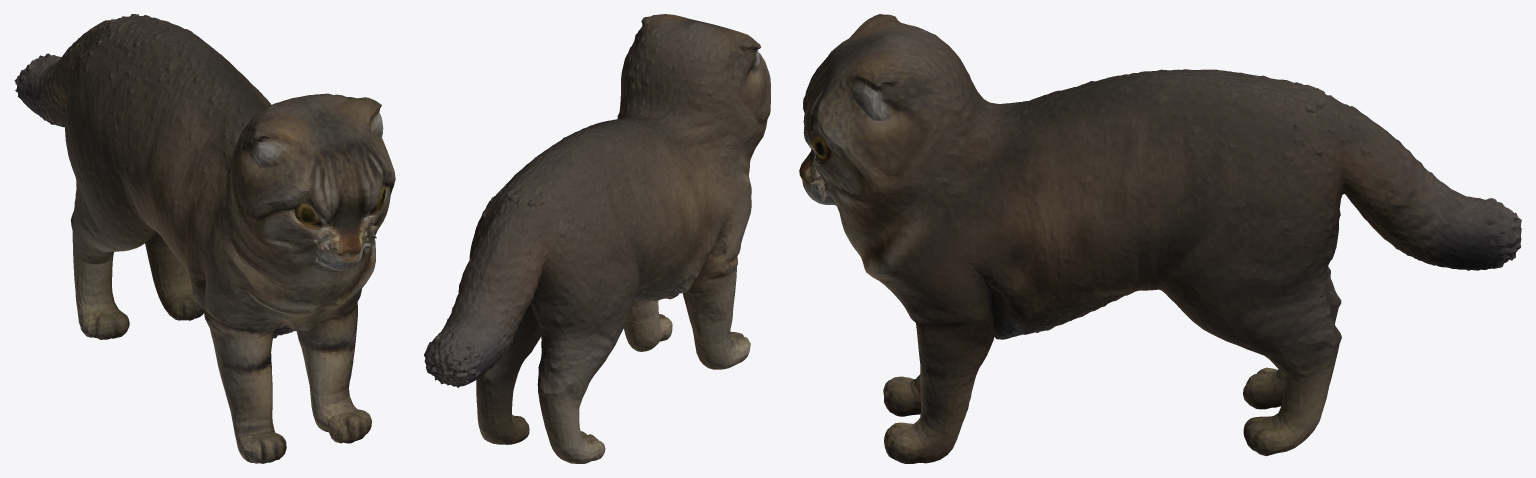
3 renders of one model, left to right at view 1: azimuth 30°, elevation 25°; view 2: azimuth 150°, elevation 25°; view 3: azimuth 270°, elevation 25°, orthographic. The views are drawn at different scales.
Parts seen in each view (by area): view 1: world; view 2: world; view 3: world.
Boxes of the visible parts, box(x1,y1,x2,y2) form: world: box(14, 14, 395, 463); world: box(424, 14, 770, 463); world: box(799, 14, 1521, 463).
Size of the model in its own units: 0.2747 by 0.6113 by 0.9983.
1 material, 1 textured.
